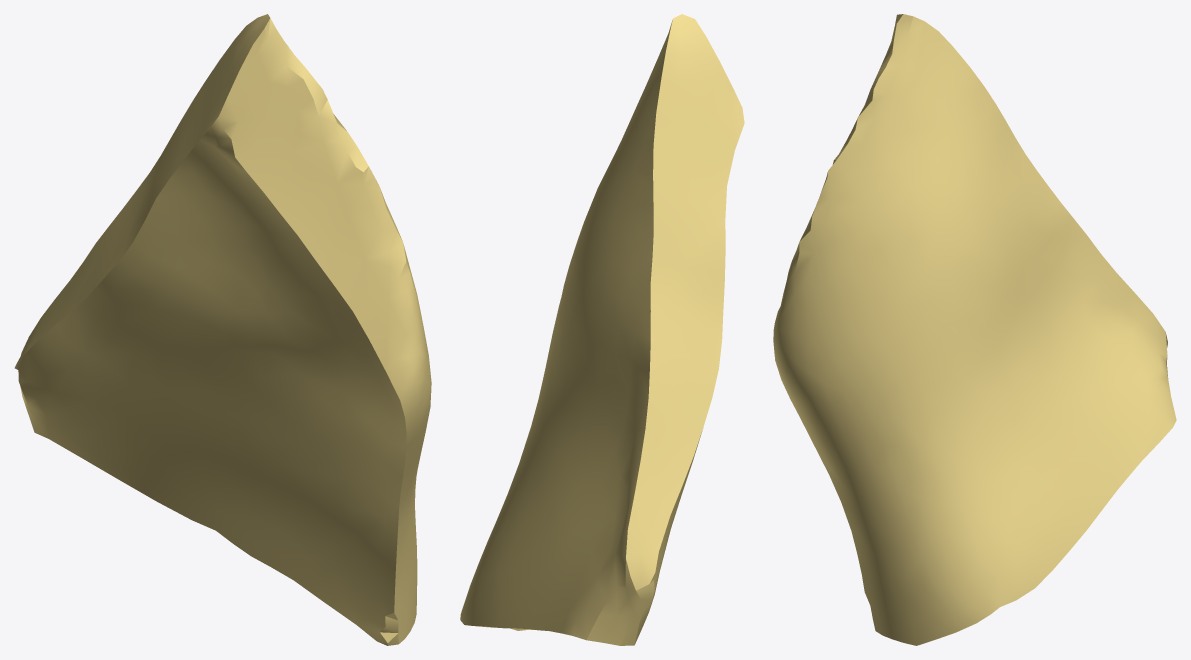
File: fma327606-l_mm3406.glb
3 renders of one model, left to right at view 1: azimuth 30°, elevation 25°; view 2: azimuth 150°, elevation 25°; view 3: azimuth 270°, elevation 25°, orthographic. The views are drawn at different scales.
Visible parts, largest first — view 1: FMA327606-L_MM3406; view 2: FMA327606-L_MM3406; view 3: FMA327606-L_MM3406.
Part boxes in pixels (bbox=[...]): FMA327606-L_MM3406: bbox=[14, 14, 431, 645]; FMA327606-L_MM3406: bbox=[460, 14, 744, 645]; FMA327606-L_MM3406: bbox=[773, 14, 1176, 645].
Size of the model in its own units: 0.00276 by 0.00597 by 0.00384.
